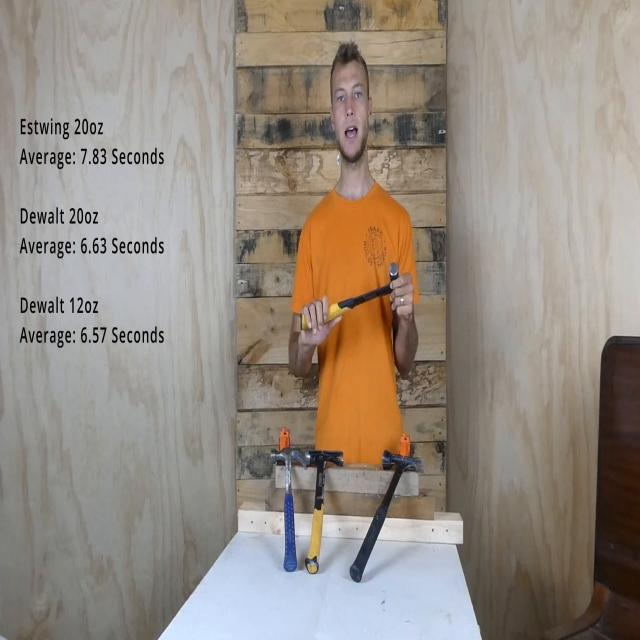hammer: (350, 453, 422, 583), (300, 260, 399, 330), (305, 452, 345, 574), (270, 445, 307, 576)
